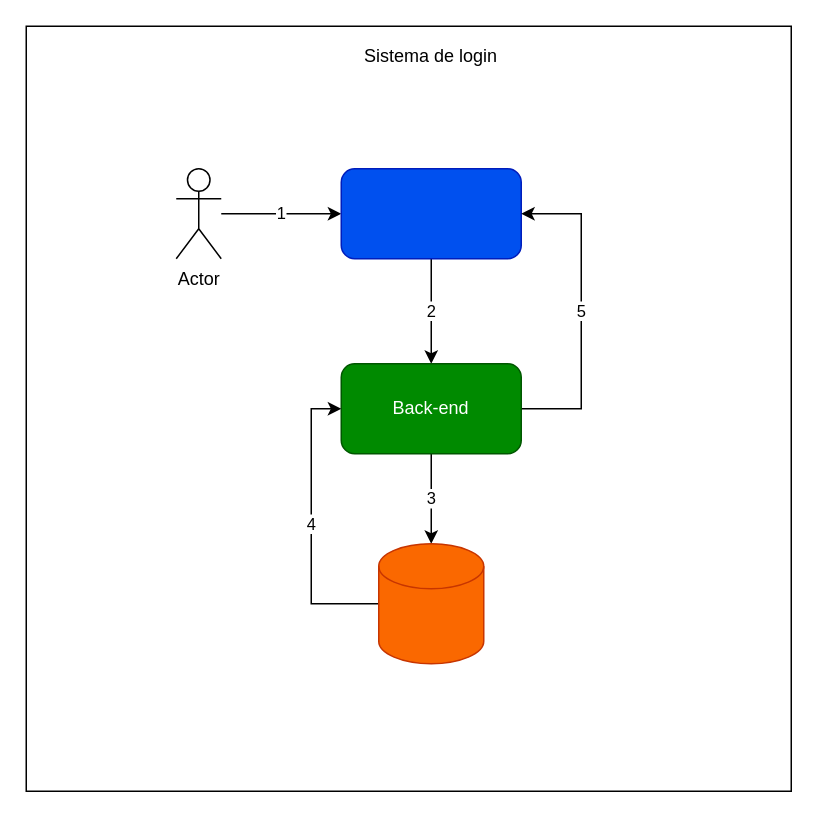
Some shapes in this 818 by 818 pixel diagram are drawn without their labels. Here are the shapes that lost their labels. From the top down, the centre of each, then its label:
At (x=430, y=213): "Front-end".
At (x=430, y=603): "DB-SQL".
